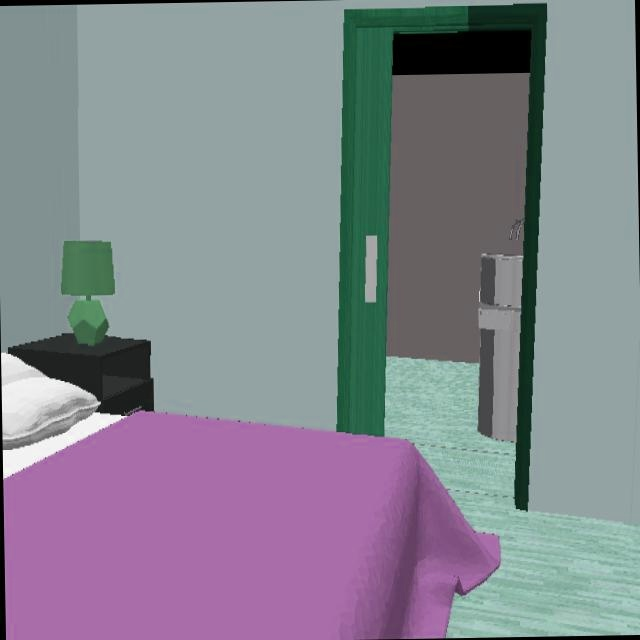bed: (1, 355, 499, 640)
lamp: (61, 241, 114, 344)
nighttable: (8, 334, 153, 413)
